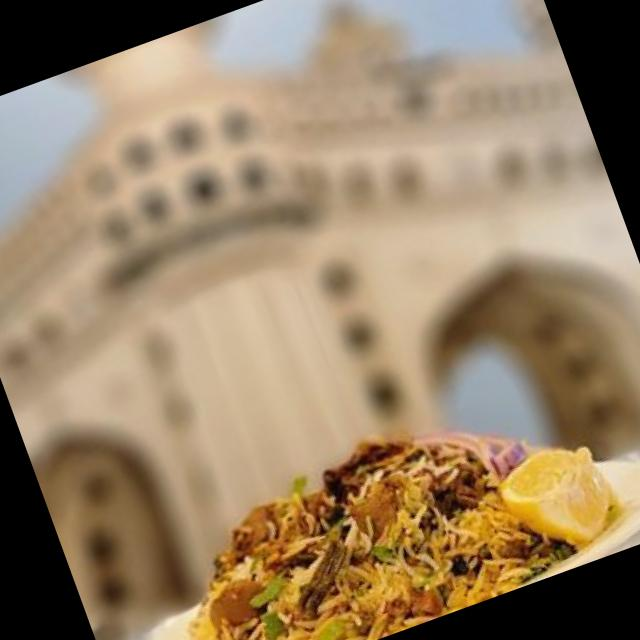Biryani: (148, 358, 634, 640)
